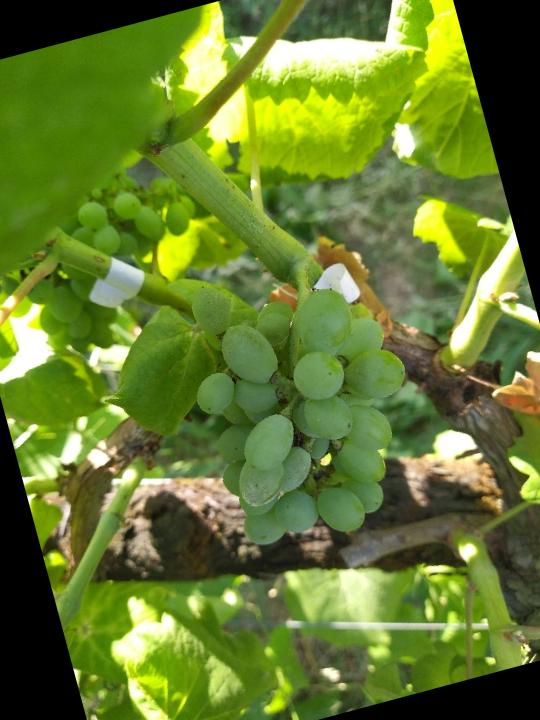grape: (160, 236, 450, 567)
